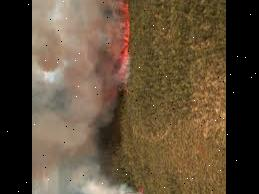fire: (102, 0, 136, 85)
